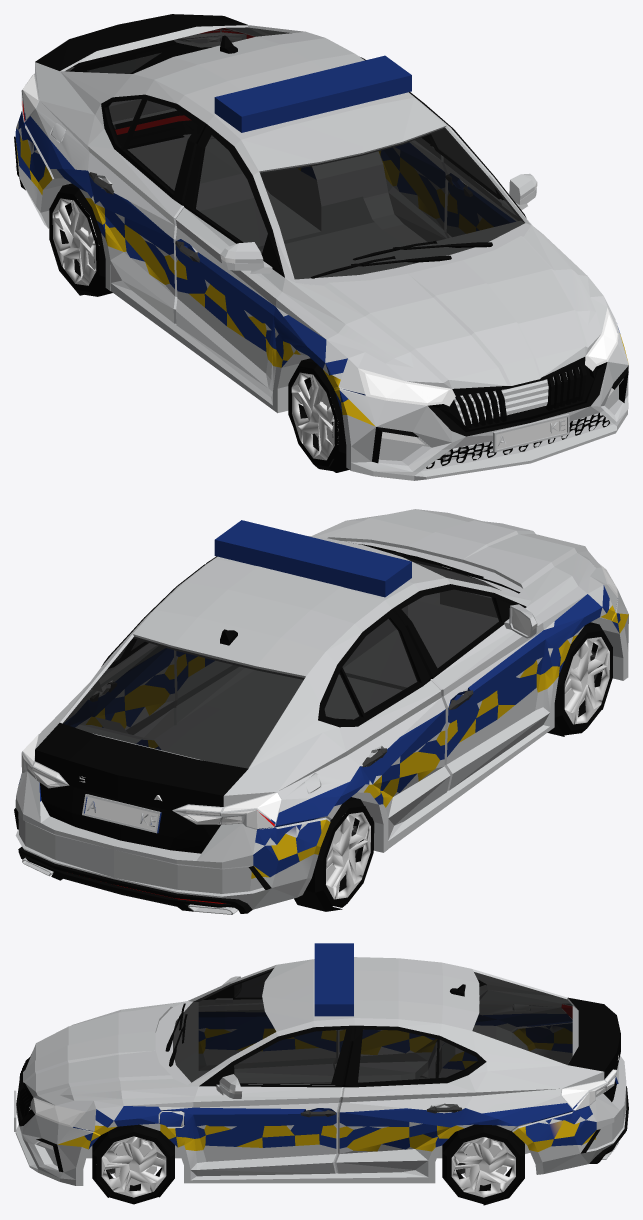
3 renders of one model, top to bottom at view 1: azimuth 30°, elevation 25°; view 2: azimuth 150°, elevation 25°; view 3: azimuth 270°, elevation 25°, orthographic. The views are drawn at different scales.
Visible parts, largest first — view 1: body, glass, wheel_RL, wheel_FL; view 2: body, glass, wheel_FL, wheel_RL; view 3: body, glass, wheel_RR, wheel_FR.
Boxes of the visible parts, <box> form: body: <box>14,14,628,480</box>; glass: <box>65,27,524,279</box>; wheel_RL: <box>49,192,112,296</box>; wheel_FL: <box>288,366,338,470</box>; body: <box>14,509,628,914</box>; glass: <box>63,543,500,768</box>; wheel_FL: <box>561,630,612,735</box>; wheel_RL: <box>323,806,374,907</box>; body: <box>14,943,628,1205</box>; glass: <box>173,968,572,1084</box>; wheel_RR: <box>442,1132,520,1204</box>; wheel_FR: <box>96,1132,170,1204</box>.
Bounding box in the file's own units: 2.02 × 1.55 × 4.69.
